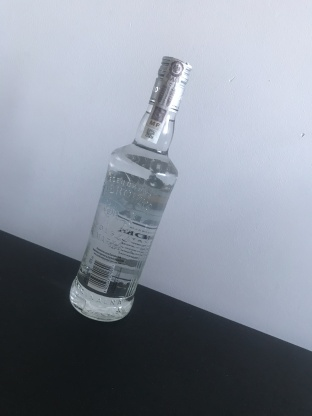nakretka: (146, 53, 193, 115)
